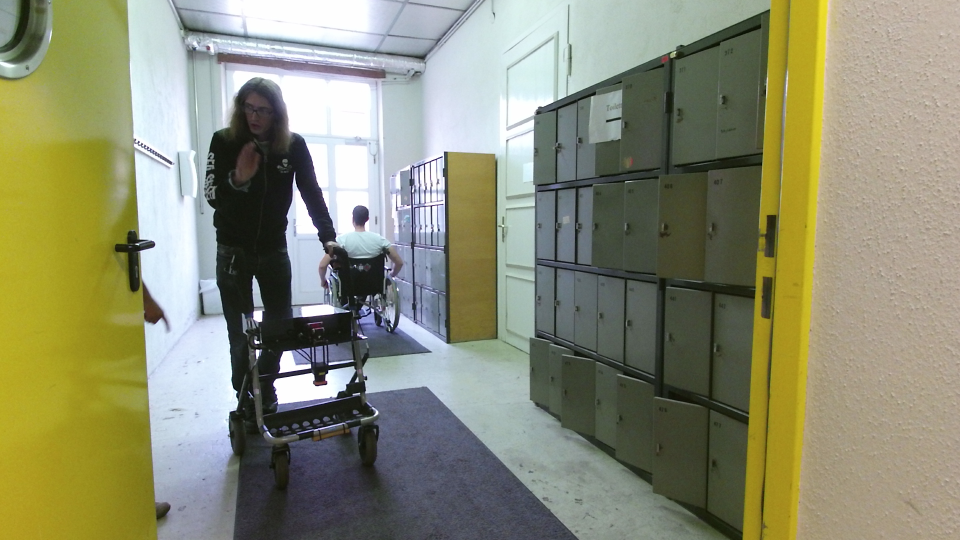wheelchair: (313, 202, 405, 334)
